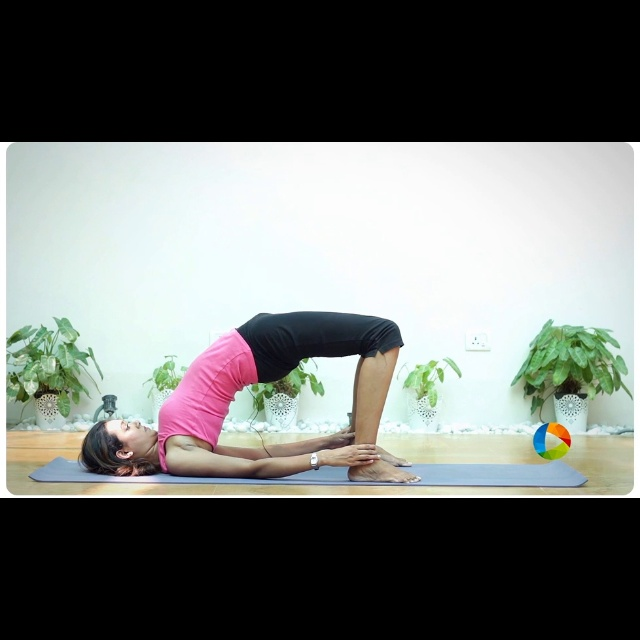Bridge_Pose: (72, 303, 441, 491)
